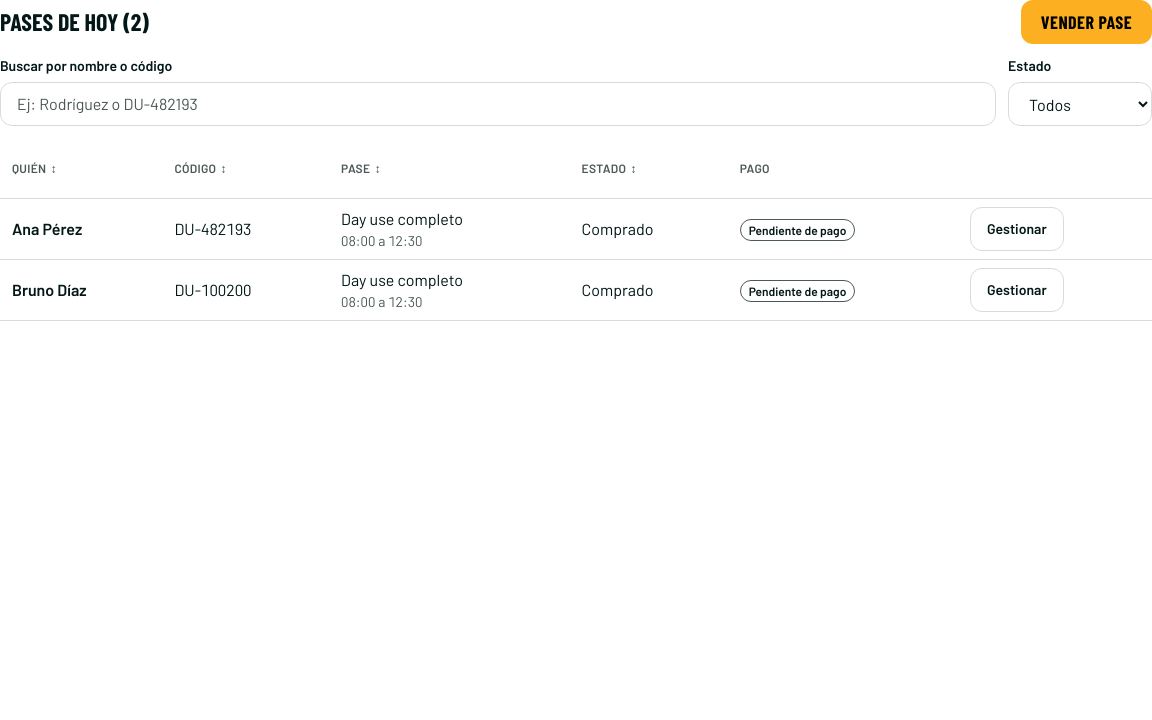
PassesToday › opens the sale sheet
Click the button "Vender pase" at (1086, 22), box [1021, 0, 1151, 44]
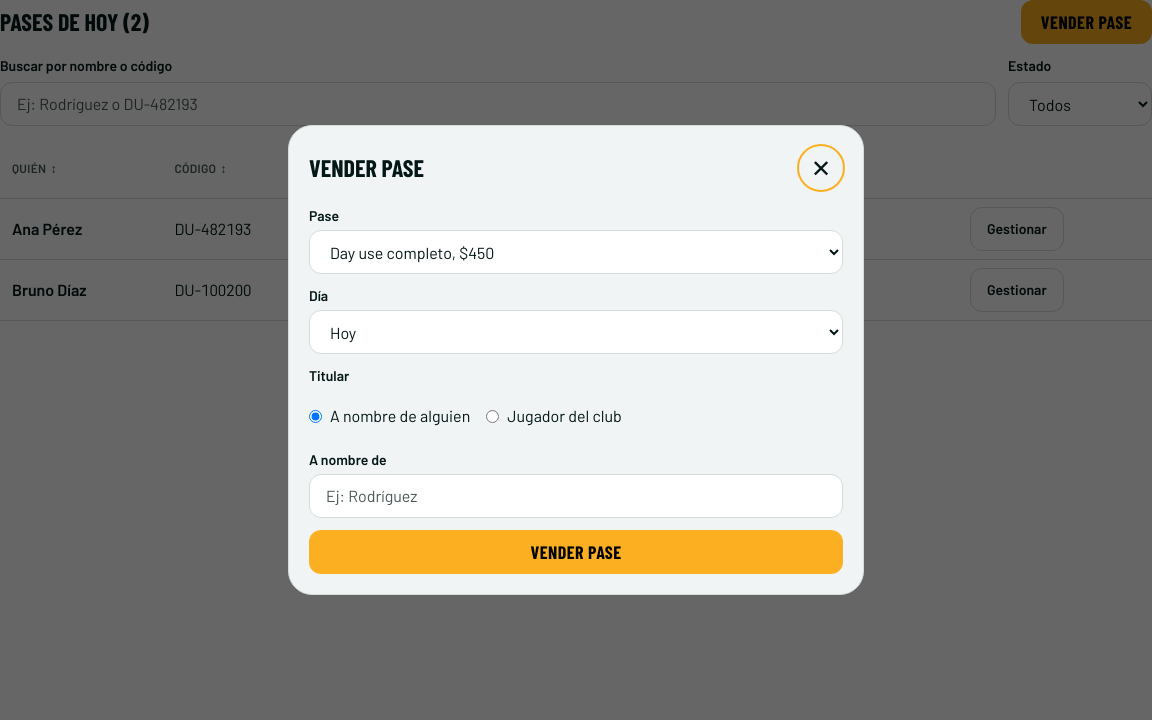
Now the dialog "Vender pase" is shown, box [288, 125, 864, 595]
